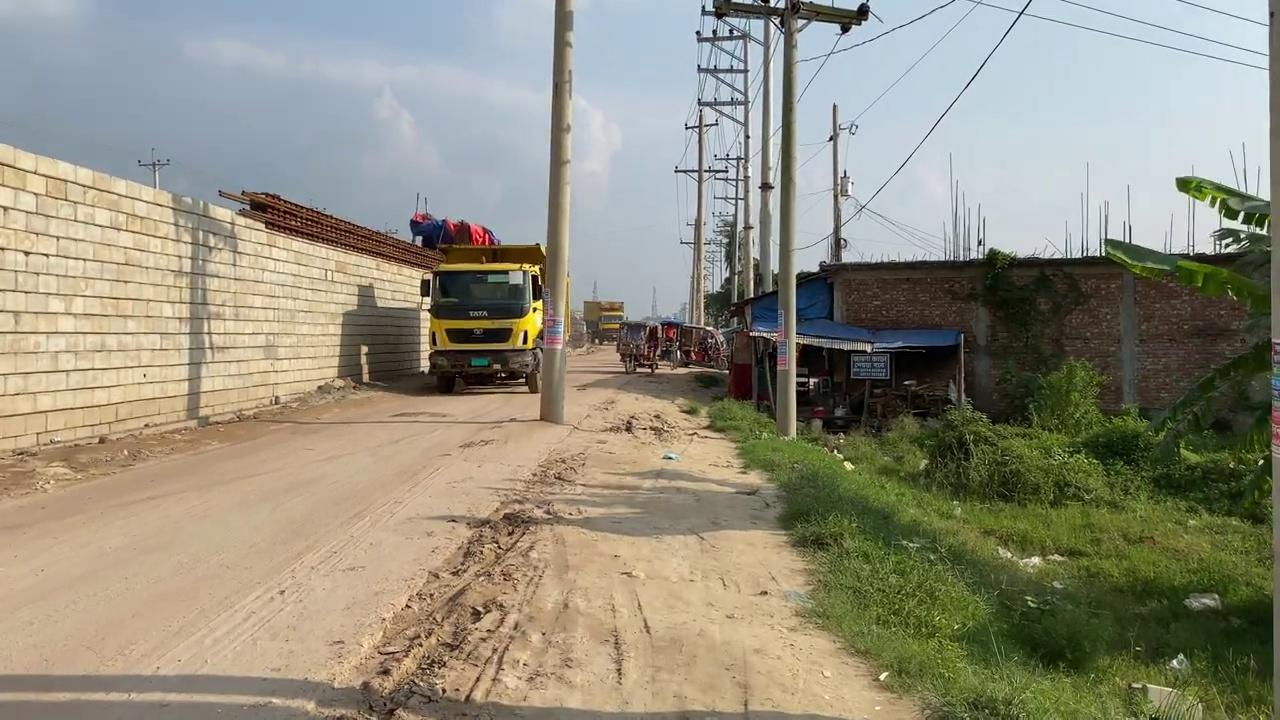Pole: (538, 1, 574, 423), (774, 3, 798, 439), (1266, 0, 1279, 719)
Rickshaw: (565, 369, 827, 720)
Traffic-sign: (1103, 151, 1272, 500)
Tree: (418, 241, 546, 393), (582, 300, 625, 344)
Upstairs: (0, 141, 443, 452), (796, 253, 1264, 431)
